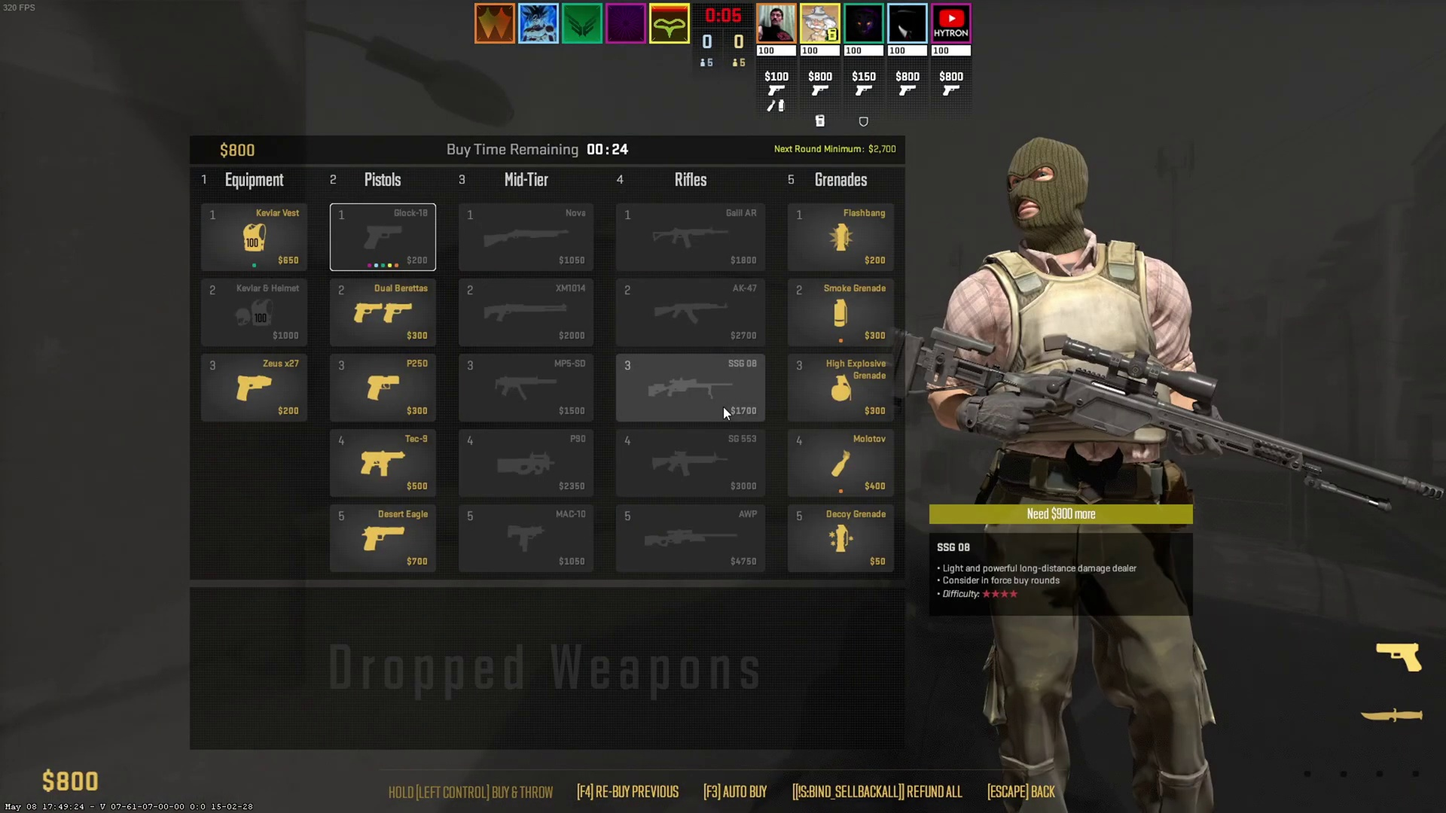Terrorist: (959, 140, 1219, 811)
